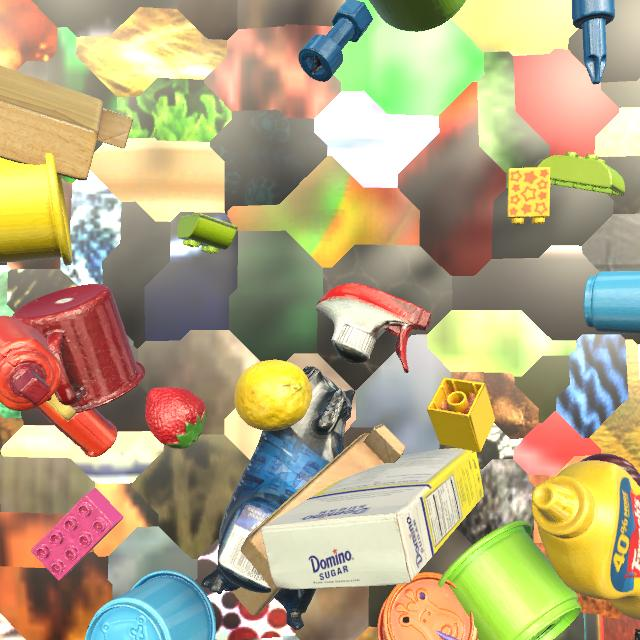ycb_004_sugar_box: (261, 448, 484, 589)
ycb_006_mustard_bottle: (532, 460, 640, 620)
ycb_012_strawberry: (145, 387, 207, 449)
ycb_014_lemon: (234, 360, 313, 431)
ycb_018_plum: (580, 453, 640, 487)
